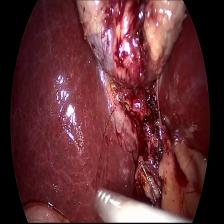Irrigator: (92, 177, 122, 222)
